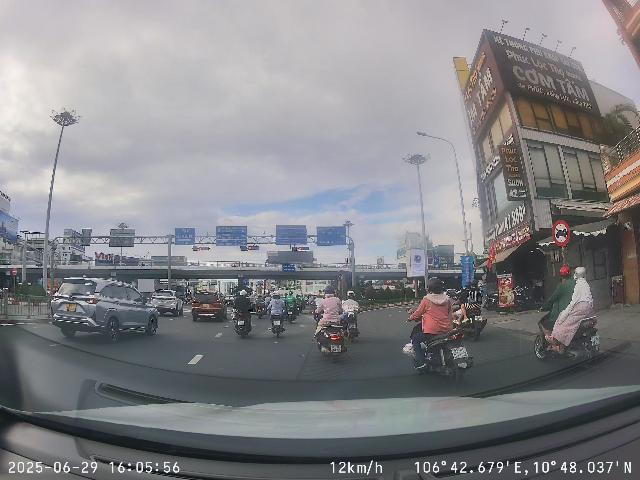106-cam-oto-tai: (552, 219, 570, 246)
